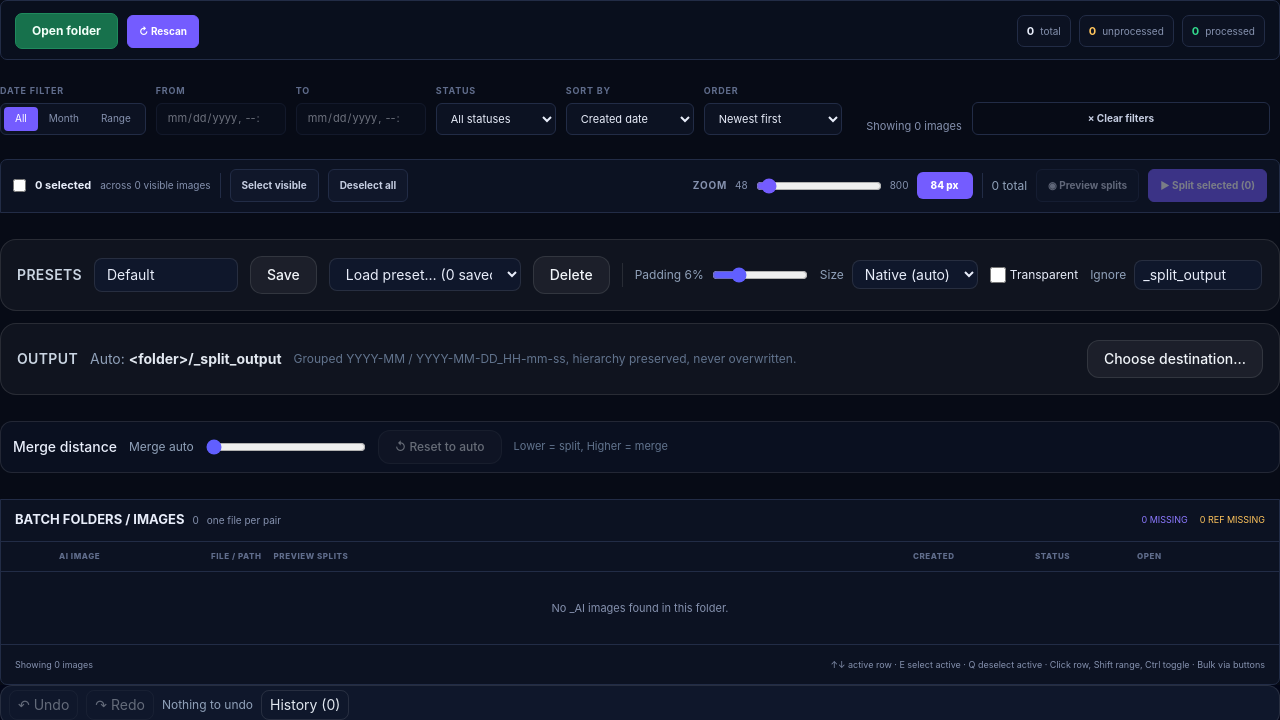
Test: Batch V2 selection: active row separate from checked › click selects one, Shift-click selects visible range from anchor
Click the button with test id "batch-open-folder" at (66, 31), box [15, 13, 118, 49]
(page scrolled)
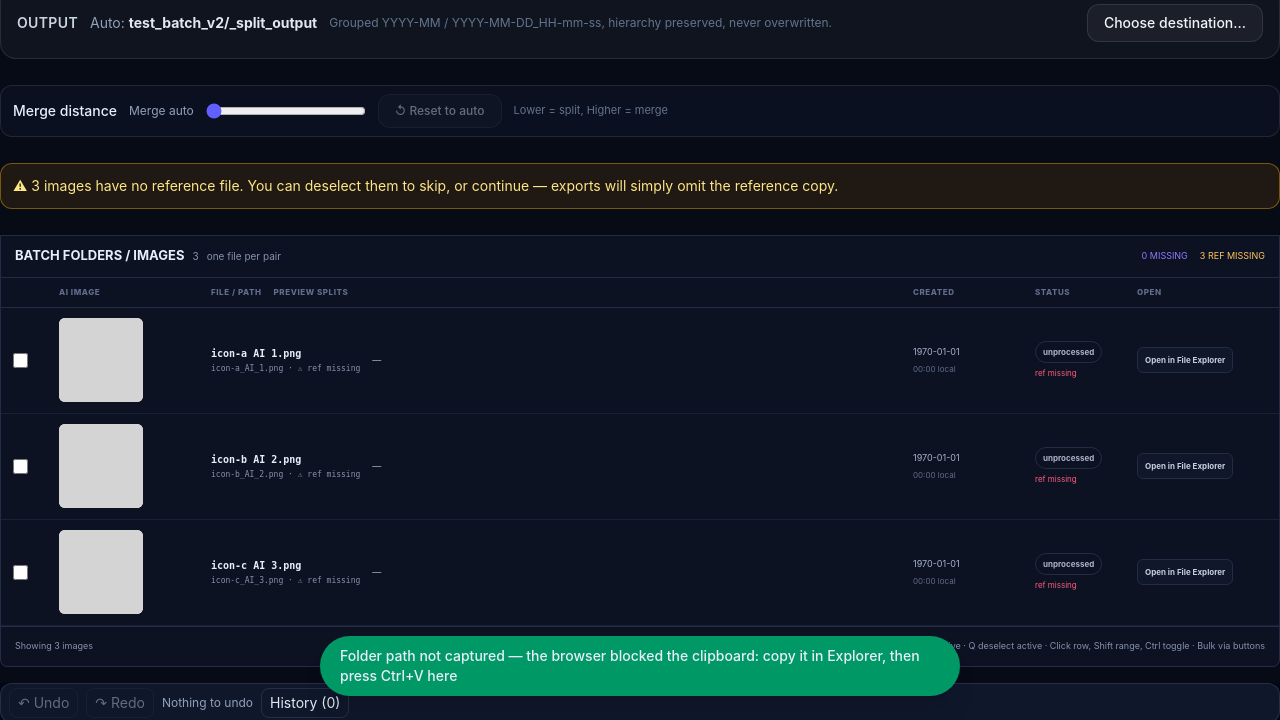
Click the list item with test id "batch-row-icon-a_AI_1.png" at (640, 360), box [1, 308, 1279, 414]
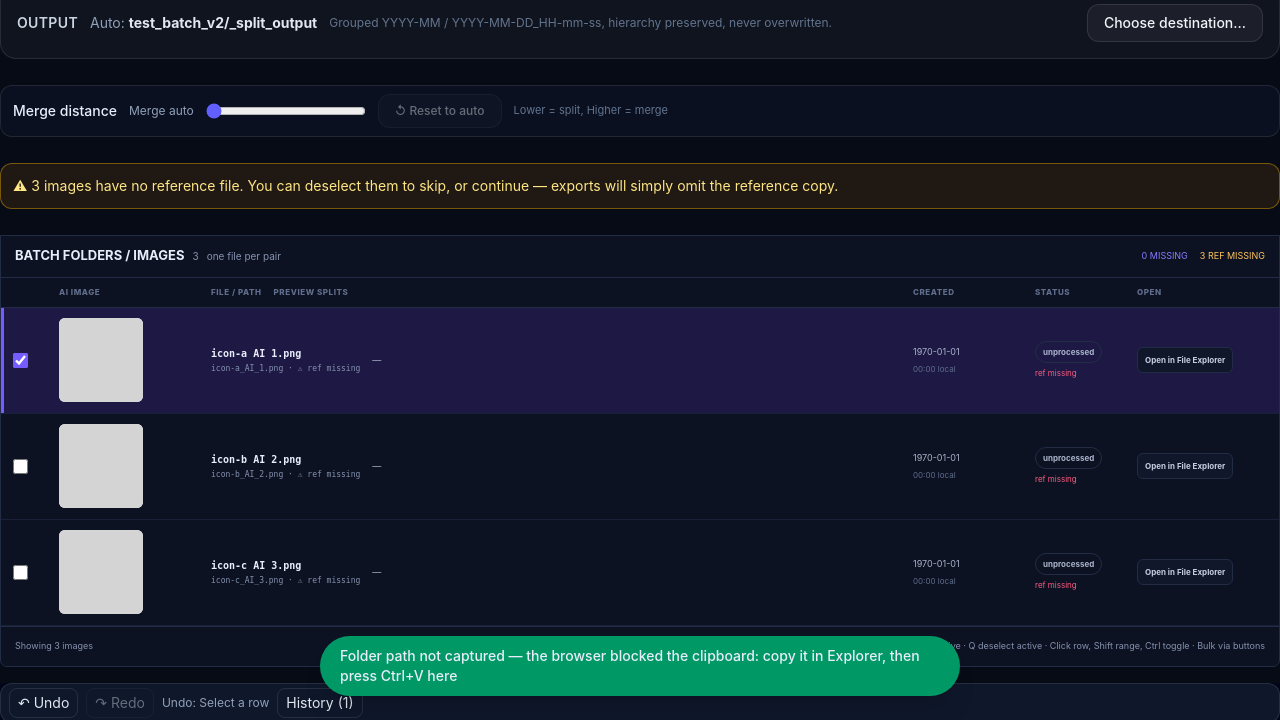
Click the list item with test id "batch-row-icon-c_AI_3.png" at (640, 572), box [1, 520, 1279, 626]
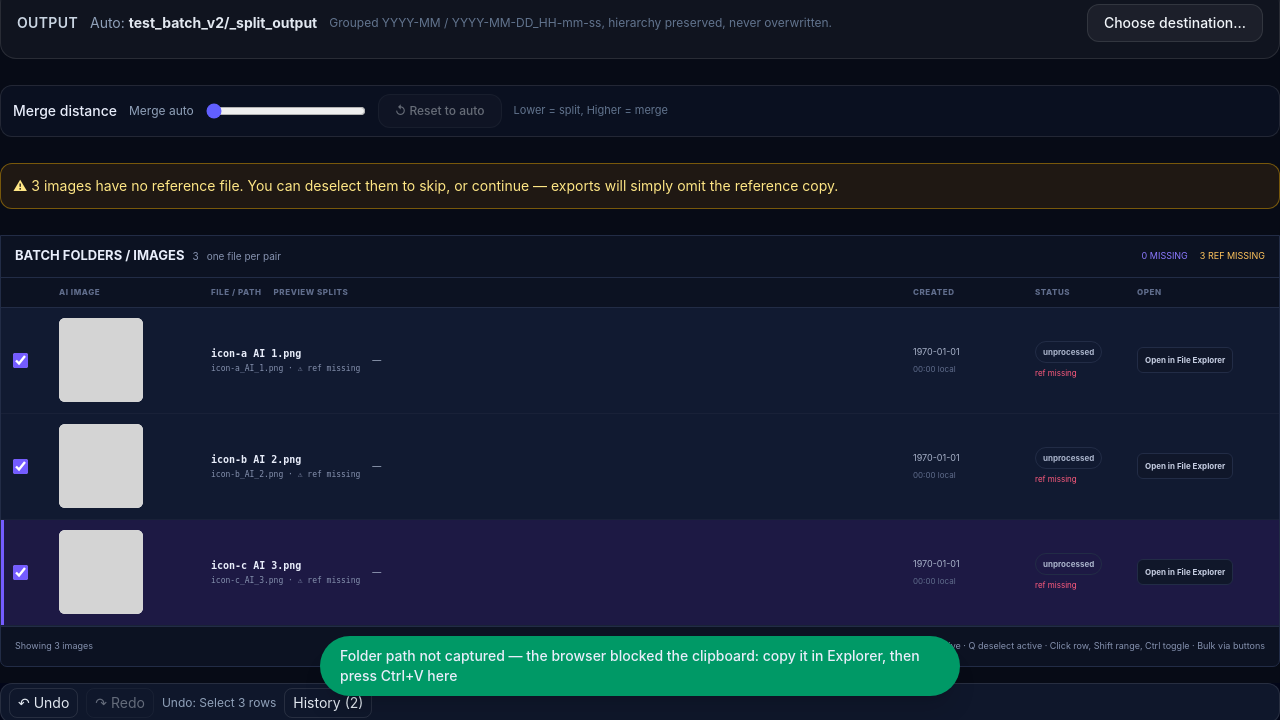
Check: the checkbox with test id "row-select-icon-a_AI_1.png" is checked, box [13, 352, 28, 368]
Check: the number of list items with test id "batch-row-" is 3, box [1, 308, 1279, 414]; [1, 414, 1279, 520]; [1, 520, 1279, 626]
Check: the checkbox with test id "row-select-icon-b_AI_2.png" is checked, box [13, 458, 28, 474]
